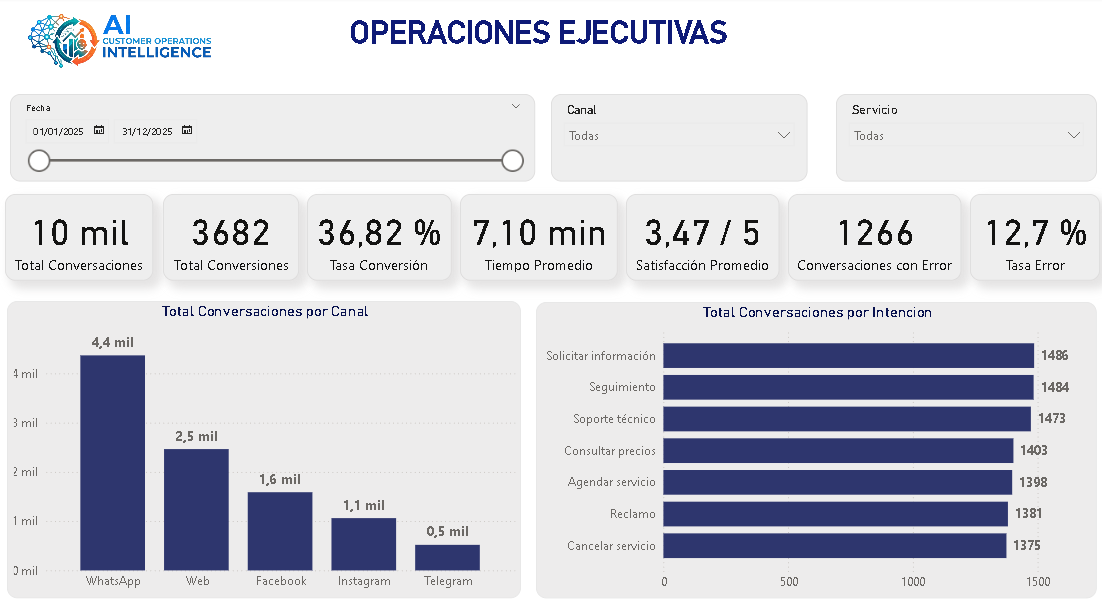

The dashboard page shown, as its layout file describes it:
{"tool":"powerbi","page":{"name":"RESUMEN EJECUTIVO","canvas":[1280,720],"ordinal":0},"visuals":[{"type":"textbox","title":"OPERACIONES EJECUTIVAS","box":[363.5,19.6,526.2,79.6],"z":0},{"type":"card","fields":{"Values":["Medidas.Total Conversaciones"]},"box":[10.7,227.4,171.4,100],"z":1000},{"type":"columnChart","fields":{"Category":["DimCanal.Canal"],"Y":["Medidas.Total Conversaciones"]},"box":[13.1,351.2,592.9,342.9],"z":2000},{"type":"barChart","fields":{"Category":["DimIntencion.Intencion"],"Y":["Medidas.Total Conversaciones"]},"box":[622.5,351.8,647.5,341.8],"z":3000},{"type":"slicer","fields":{"Values":["DimFecha.Fecha"]},"box":[16.7,111.9,606,101.2],"z":4000},{"type":"slicer","fields":{"Values":["DimCanal.Canal"]},"box":[640.5,111.9,296.4,101.2],"z":5000},{"type":"card","fields":{"Values":["Medidas.Total Conversiones"]},"box":[192.9,227.4,157.1,100],"z":6000},{"type":"card","fields":{"Values":["Medidas.Tasa Conversión"]},"box":[358.3,227.4,166.7,100],"z":7000},{"type":"card","fields":{"Values":["Medidas.Tiempo Promedio"]},"box":[535.7,227.4,182.1,100],"z":8000},{"type":"card","fields":{"Values":["Medidas.Satisfacción Promedio"]},"box":[727.4,227.4,177.4,100],"z":9000},{"type":"card","fields":{"Values":["Medidas.Conversaciones con Error"]},"box":[914.3,227.4,200,100],"z":10000},{"type":"card","fields":{"Values":["Medidas.Tasa Error"]},"box":[1123.8,227.4,150,100],"z":11000},{"type":"slicer","fields":{"Values":["DimServicio.Servicio"]},"box":[969,111.9,301.2,101.2],"z":12000},{"type":"image","box":[0,0,285,98.8],"z":13000}]}

Visuals, with their boxes in screenshot pixels (x1, y1, x2, y2), scaled from the page's 1280x720 canvas onto the 1102x616 screenshot:
"OPERACIONES EJECUTIVAS" textbox: locate(313, 17, 766, 85)
card - Medidas.Total Conversaciones: locate(9, 195, 157, 280)
columnChart - DimCanal.Canal x Medidas.Total Conversaciones: locate(11, 300, 522, 594)
barChart - DimIntencion.Intencion x Medidas.Total Conversaciones: locate(536, 301, 1093, 593)
slicer - DimFecha.Fecha: locate(14, 96, 536, 182)
slicer - DimCanal.Canal: locate(551, 96, 807, 182)
card - Medidas.Total Conversiones: locate(166, 195, 301, 280)
card - Medidas.Tasa Conversión: locate(308, 195, 452, 280)
card - Medidas.Tiempo Promedio: locate(461, 195, 618, 280)
card - Medidas.Satisfacción Promedio: locate(626, 195, 779, 280)
card - Medidas.Conversaciones con Error: locate(787, 195, 959, 280)
card - Medidas.Tasa Error: locate(968, 195, 1097, 280)
slicer - DimServicio.Servicio: locate(834, 96, 1094, 182)
image: locate(0, 0, 245, 85)
